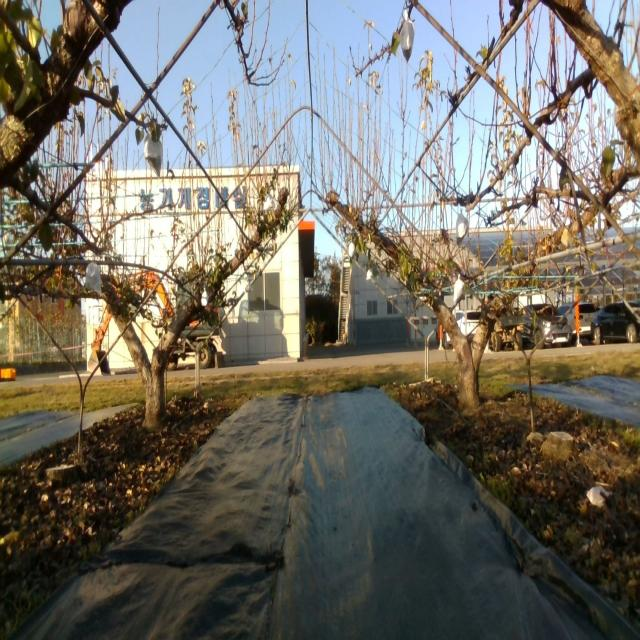pearbags: (144, 139, 162, 178), (400, 11, 414, 61), (85, 260, 102, 296), (455, 209, 469, 245), (453, 274, 465, 302)
